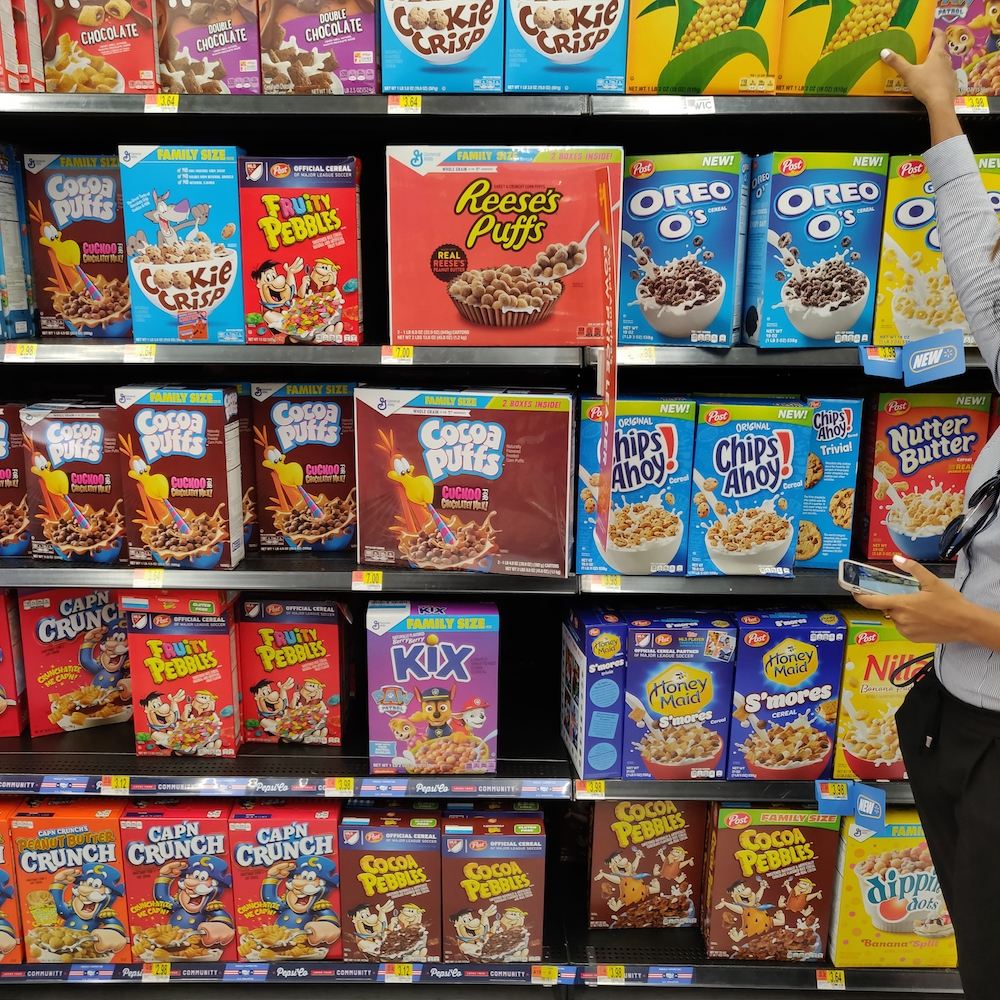Chips Ahoys-565717529: (579, 406, 687, 573)
Cocoa Pebbles-555517893: (718, 808, 837, 960), (446, 827, 548, 957), (338, 827, 435, 960), (603, 803, 700, 933)
Dippin Dots Banana-568929376: (843, 819, 952, 968)
Honey Maid Graham -563424385: (624, 628, 725, 778)
Oreo-563424384: (611, 152, 746, 346), (752, 163, 876, 352)
